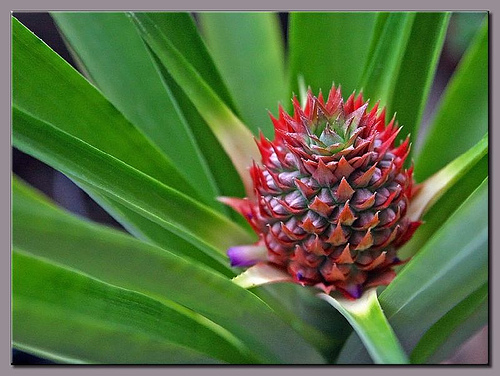pineapple: (236, 77, 428, 301)
